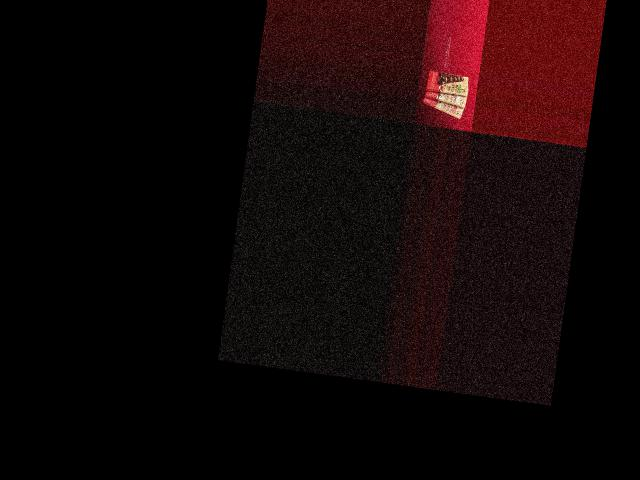chocolate: (419, 92, 467, 119)
